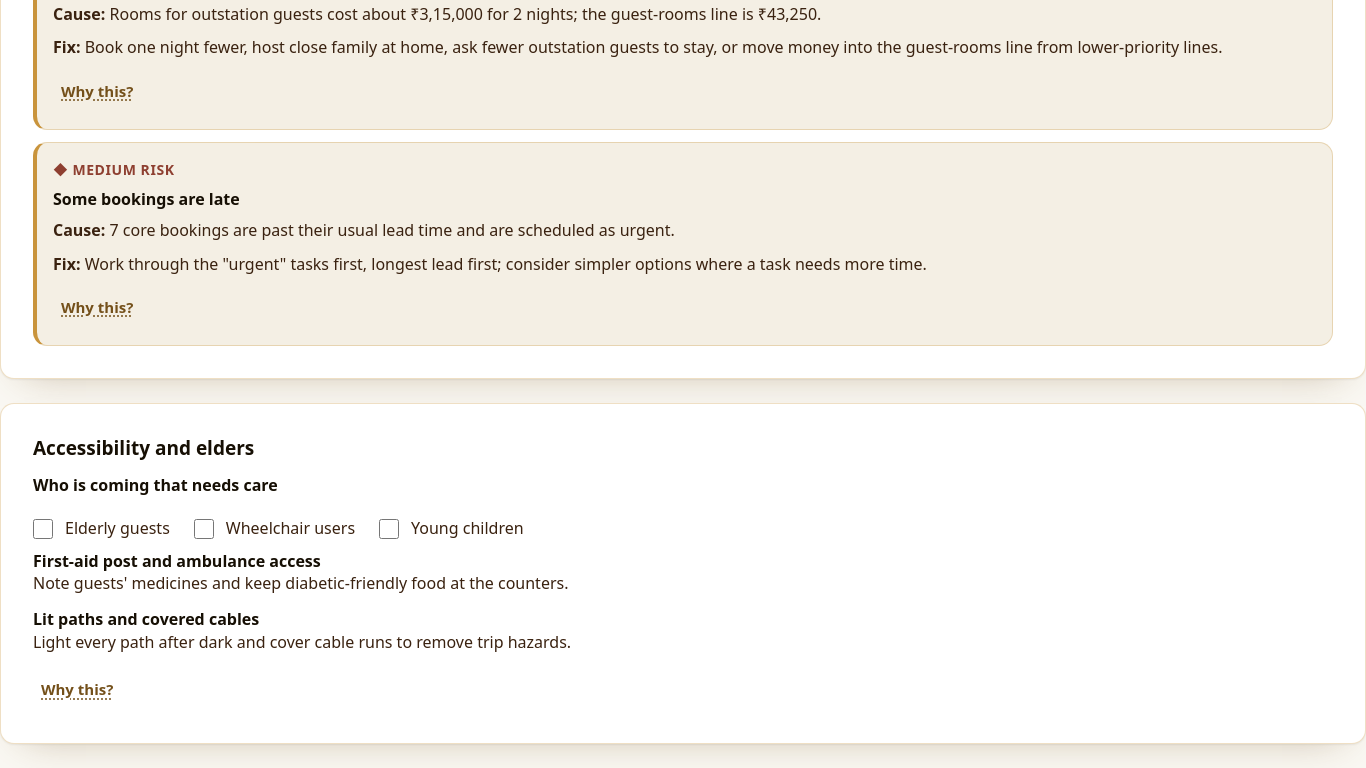
Test: SafetyPanel accessibility plan › previews the tasks a newly ticked need adds
(page scrolled)
Click the checkbox labelled "Elderly guests" at (43, 528), box top-left (33, 518), bottom-right (53, 538)
(page scrolled)
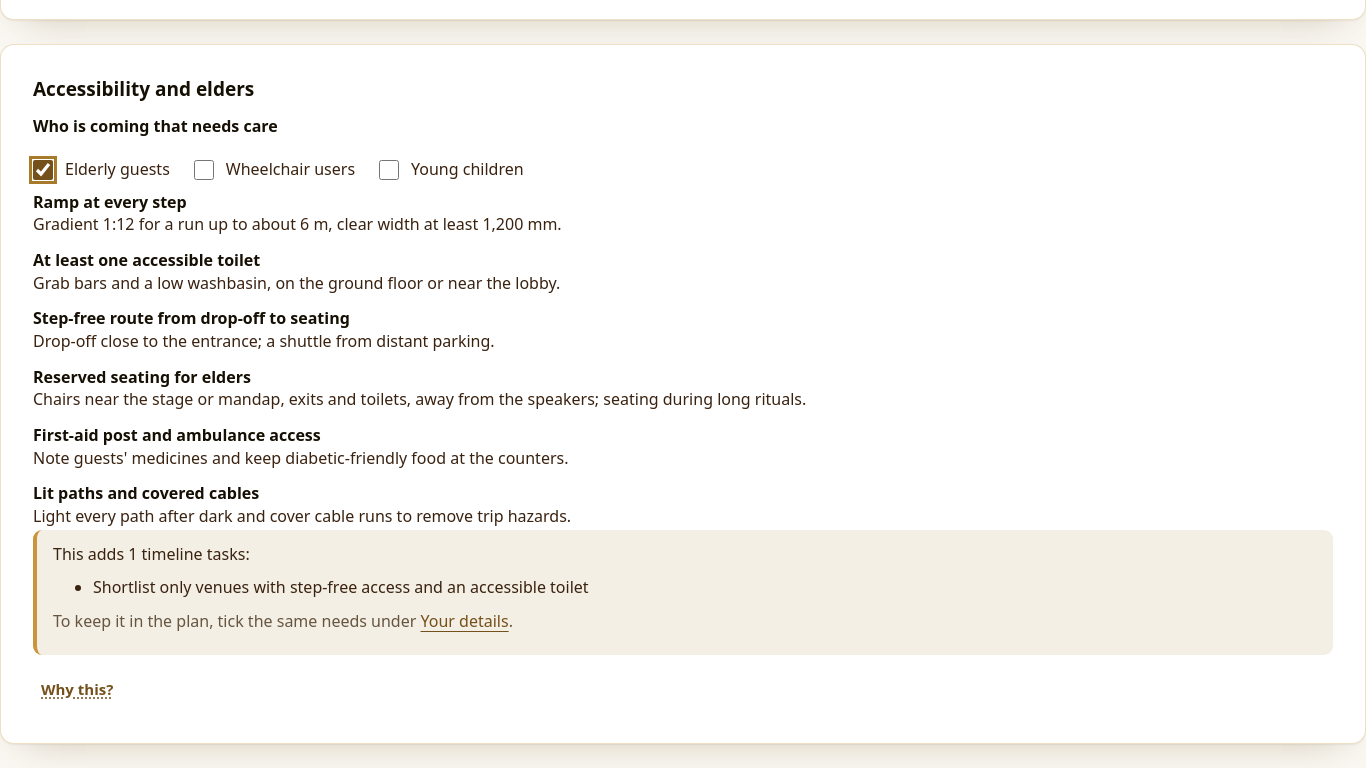
Expected: the list item "Shortlist only venues with step-free access and an accessible toilet" is shown, top-left (93, 576), bottom-right (589, 598)
Expected: the heading "Ramp at every step" is shown, top-left (33, 190), bottom-right (187, 212)
Expected: the heading "At least one accessible toilet" is shown, top-left (33, 249), bottom-right (260, 271)
